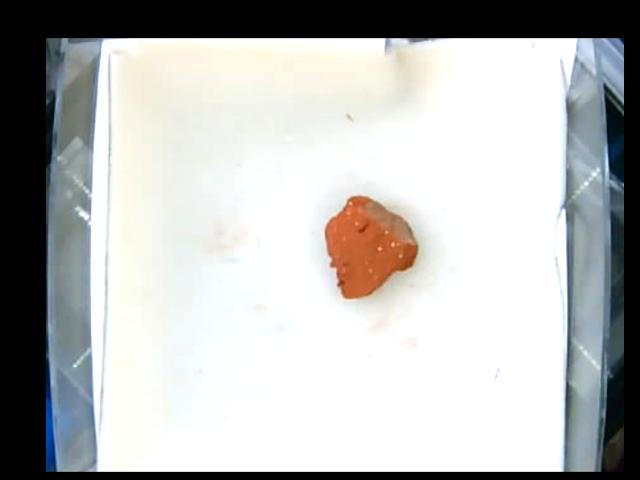Brisk: (323, 194, 417, 300)
